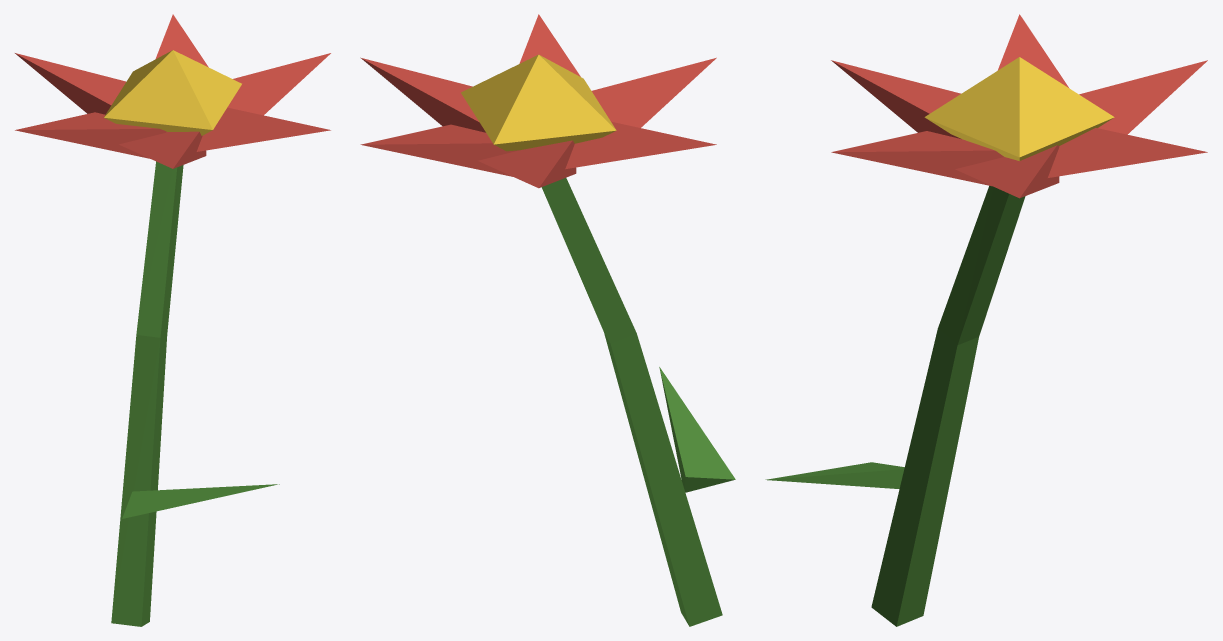
File: HS_LP_Flower_Red_01.fbx
The picture shows the model from 3 angles, left to right: view 1: azimuth 30°, elevation 25°; view 2: azimuth 150°, elevation 25°; view 3: azimuth 270°, elevation 25°; orthographic projection. The views are drawn at different scales.
Visible parts, largest first — view 1: HS_LP_Flower_Red_01; view 2: HS_LP_Flower_Red_01; view 3: HS_LP_Flower_Red_01.
Part boxes in pixels (x1,y1,x2,y2): HS_LP_Flower_Red_01: [15, 14, 330, 626]; HS_LP_Flower_Red_01: [360, 14, 735, 626]; HS_LP_Flower_Red_01: [765, 14, 1207, 626].
Bounding box in the file's own units: 16.49 × 25.59 × 16.78.
